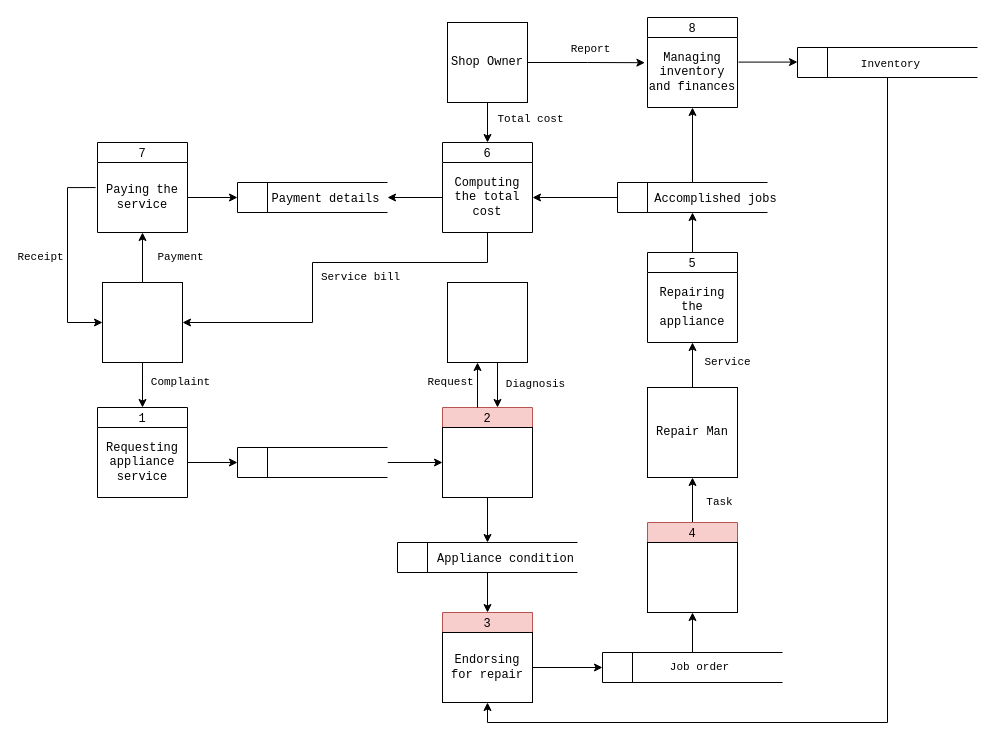
Image size: 995x748. Some labels were removed from this diagram. Here are the shapes that lost their labels. From the top down, the box of each, then its label:
(102, 282, 182, 362): Appliance Owner
(446, 282, 528, 362): Technical Service Personnel
(236, 446, 388, 478): Request queue
(442, 426, 532, 498): Checking the appliance condition
(646, 542, 738, 612): Assigning job task
